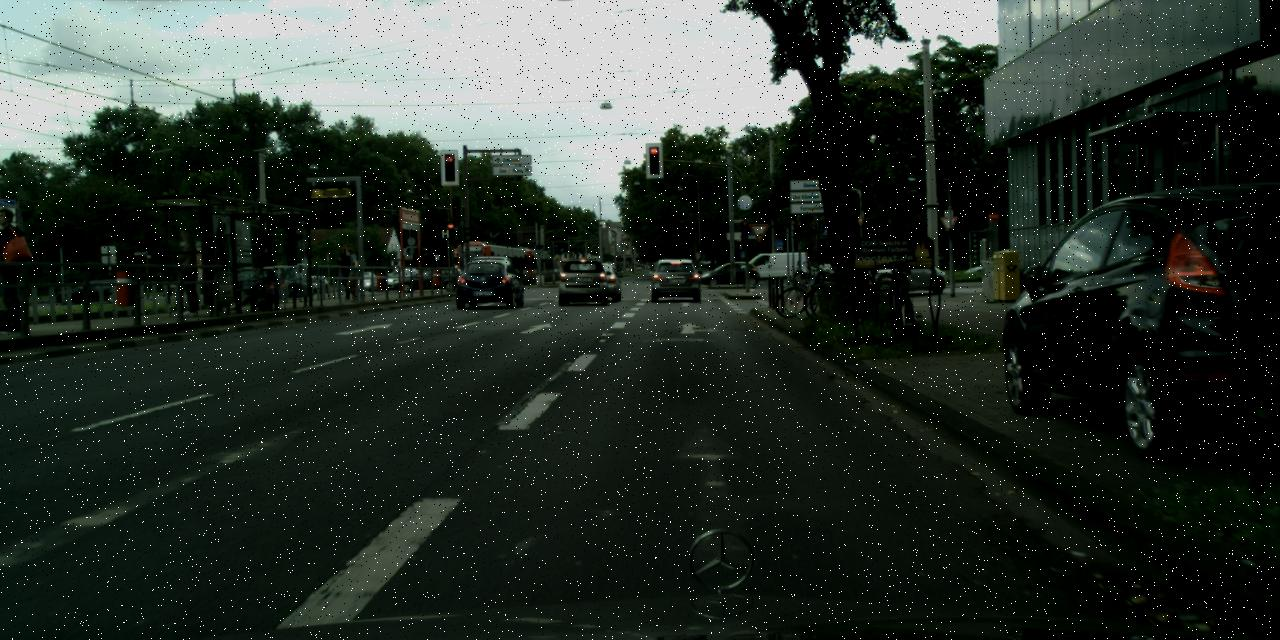ped: (0, 209, 36, 331), (171, 230, 206, 314), (333, 241, 356, 299), (341, 248, 362, 300)
